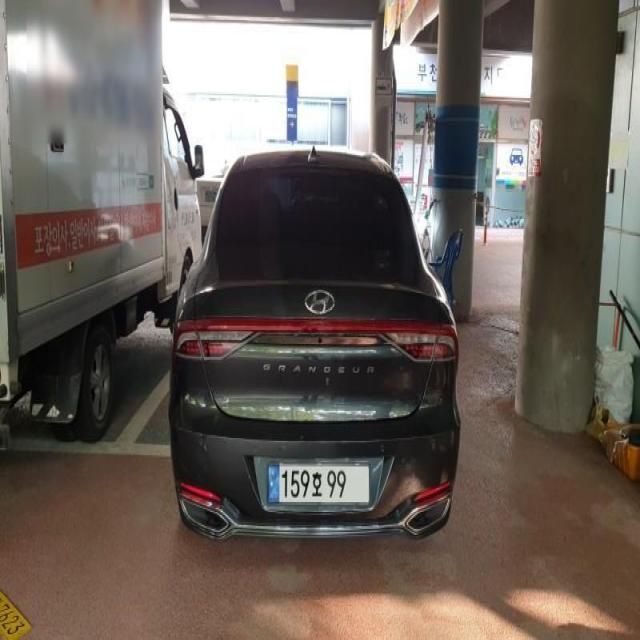car: (162, 147, 473, 565)
illegal_plate: (263, 457, 376, 514)
